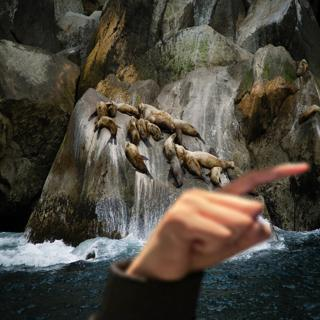WHY: (125, 151, 314, 283)
